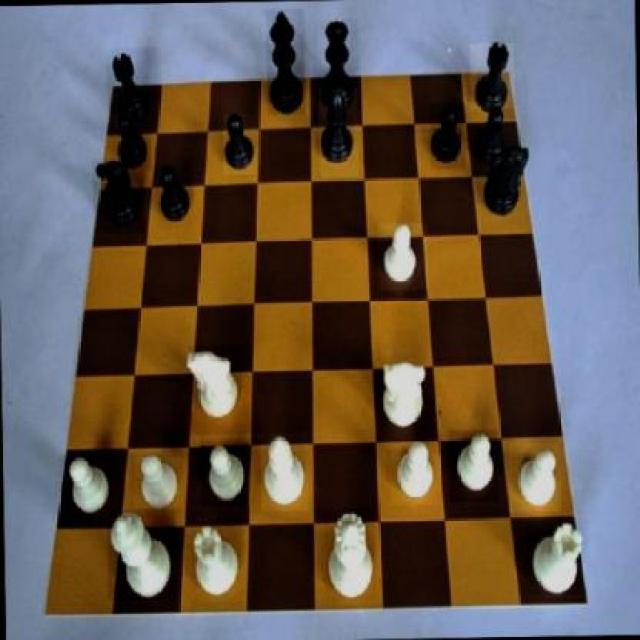bishop: (318, 88, 358, 178)
black-bishop: (266, 10, 306, 116)
black-king: (94, 158, 146, 234), (482, 146, 532, 222)
black-knight: (108, 112, 152, 172), (472, 108, 516, 168), (156, 163, 194, 229), (430, 102, 466, 168), (223, 114, 256, 174)
black-pawn: (312, 18, 360, 118)
black-queen: (108, 48, 160, 128), (471, 43, 515, 110)
black-rook: (260, 432, 309, 512)
white-bishop: (108, 508, 177, 600)
white-king: (189, 344, 254, 434), (372, 356, 437, 438)
white-knight: (59, 455, 118, 523), (448, 430, 498, 502), (509, 442, 560, 512), (200, 440, 251, 509), (378, 223, 428, 291), (389, 444, 439, 506), (134, 456, 181, 508)
white-pawn: (325, 508, 377, 600)
white-queen: (526, 518, 589, 594), (191, 523, 241, 608)
